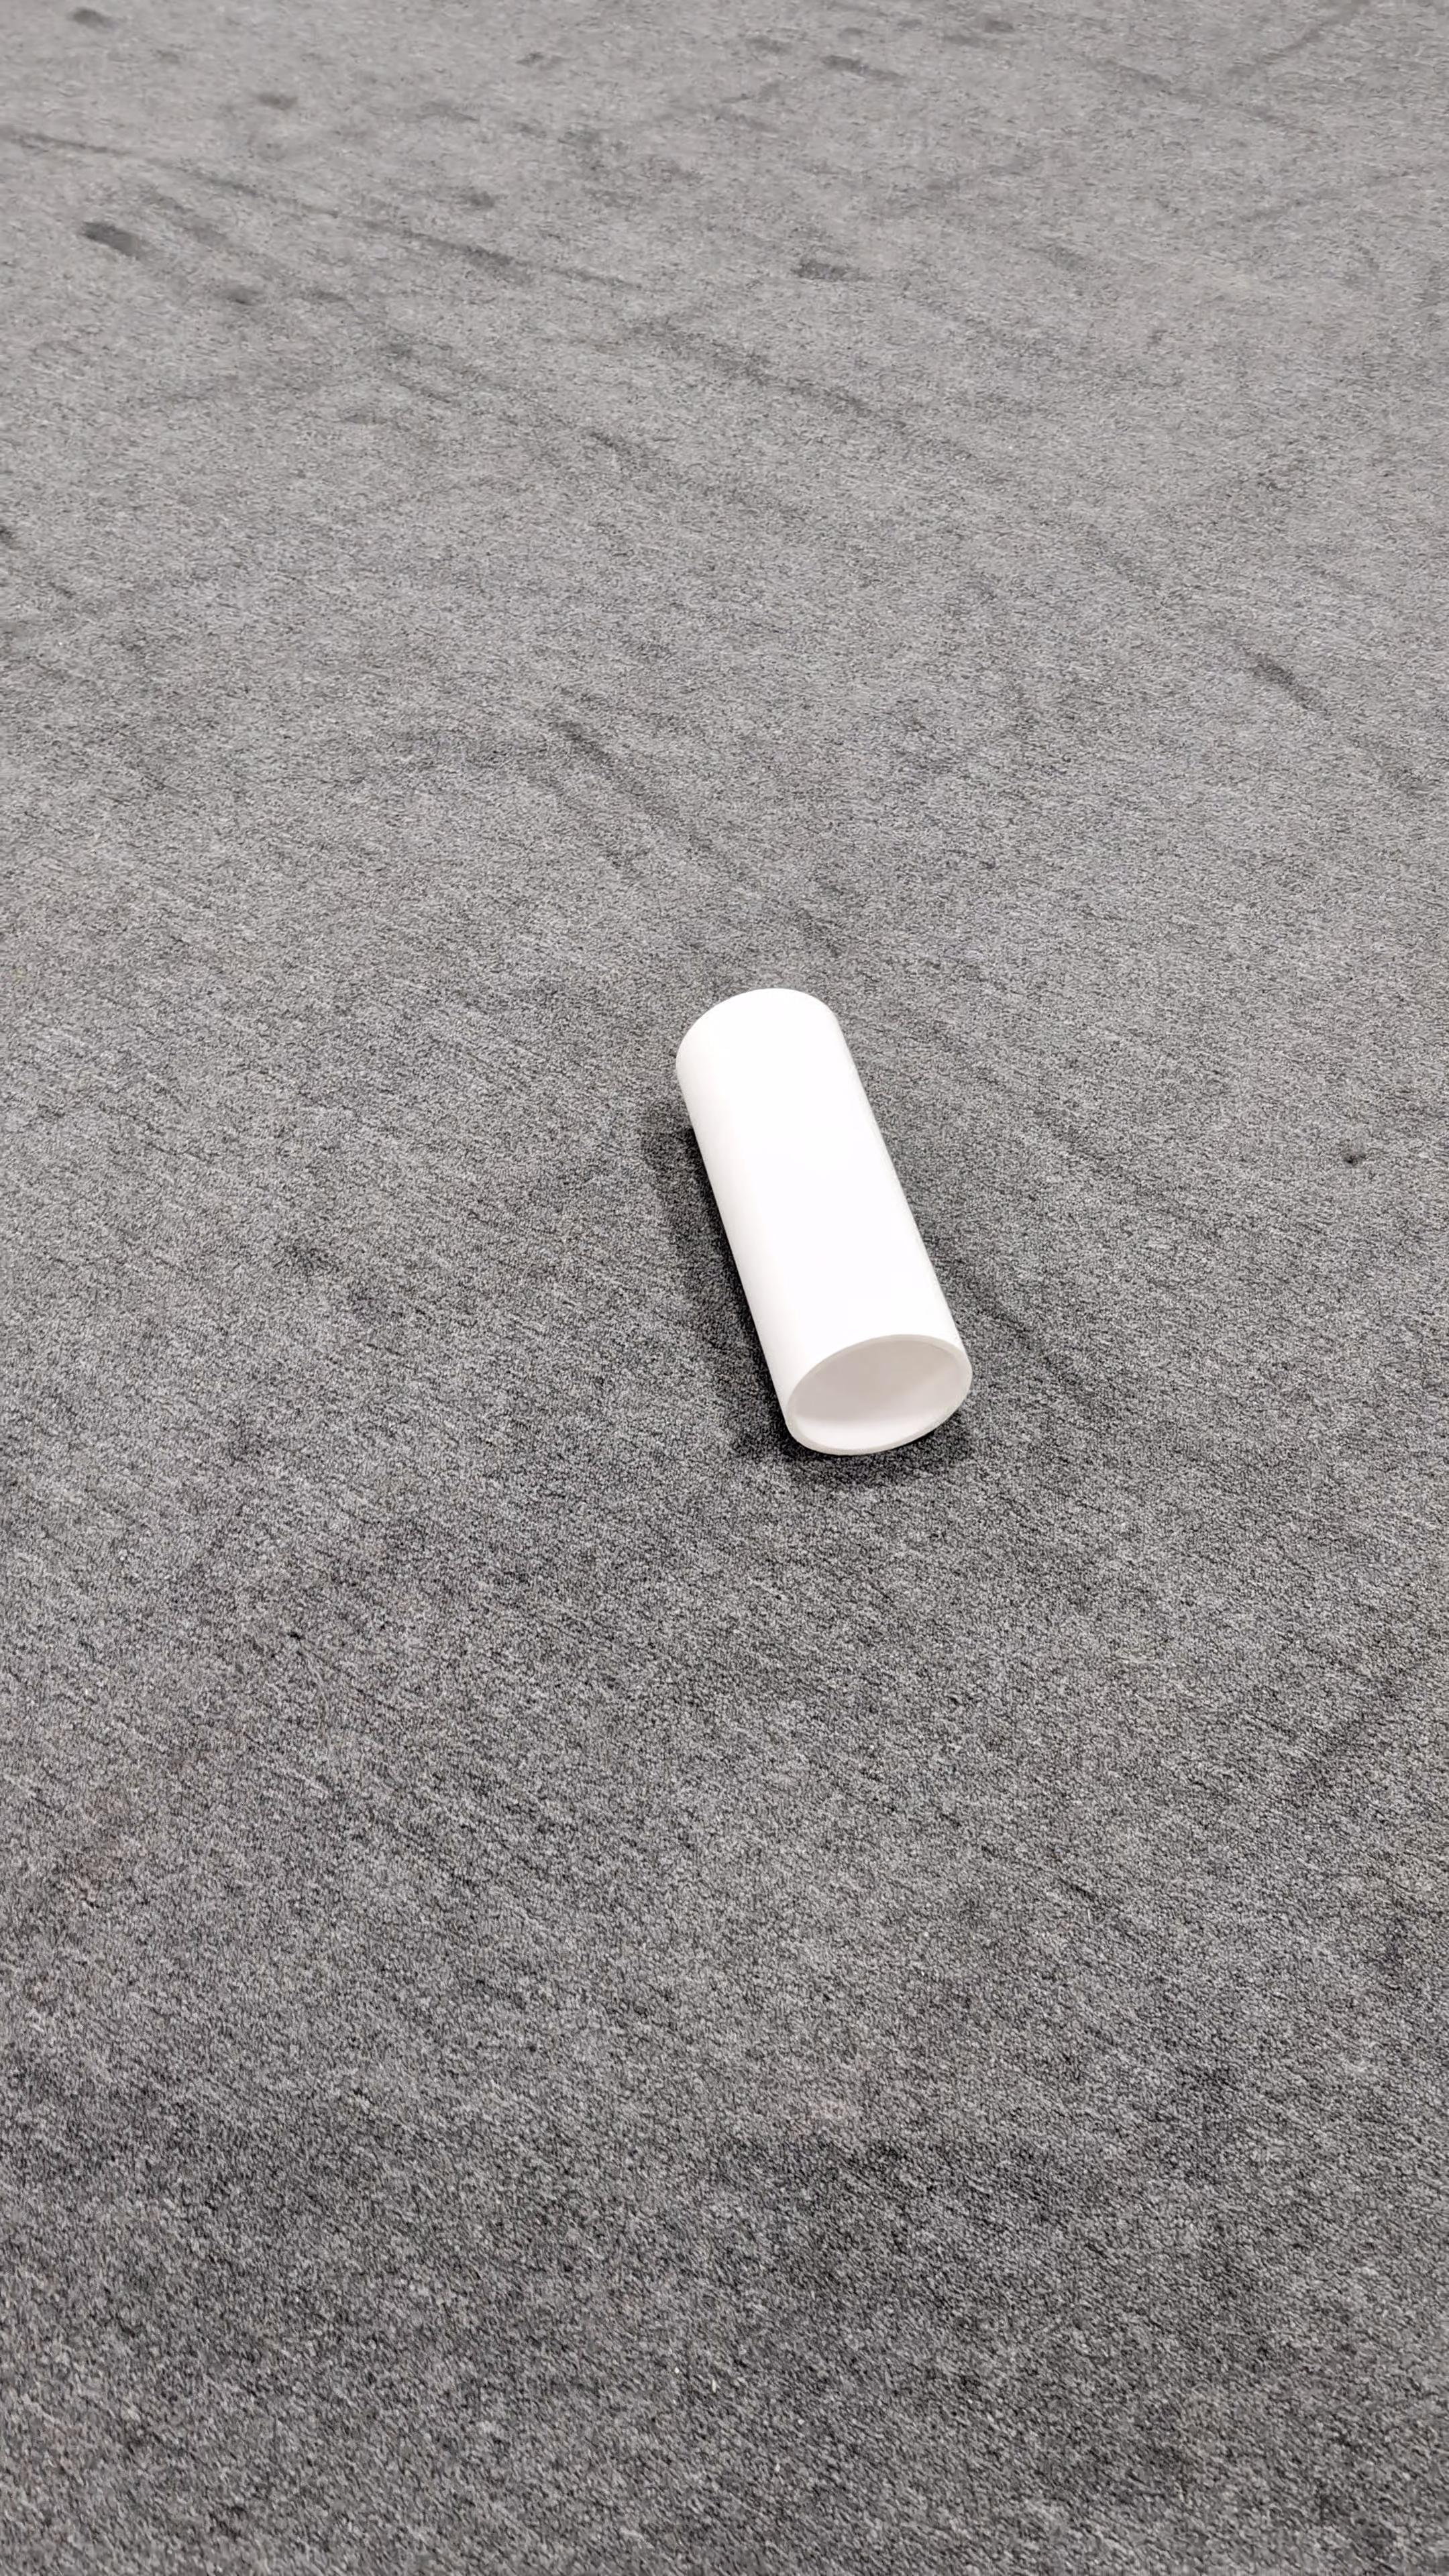coral: (671, 984, 977, 1454)
